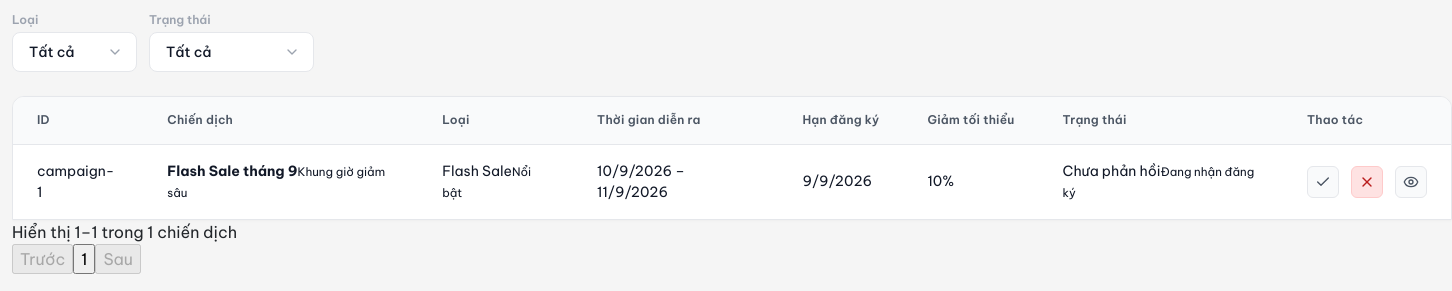
Test: SellerCampaignsPage Flash Sale participation flow › declines from the campaign row with the latest participation version
Click the button named "Từ chối chiến dịch Flash Sale tháng 9" at (1367, 182), box [1351,166,1383,198]
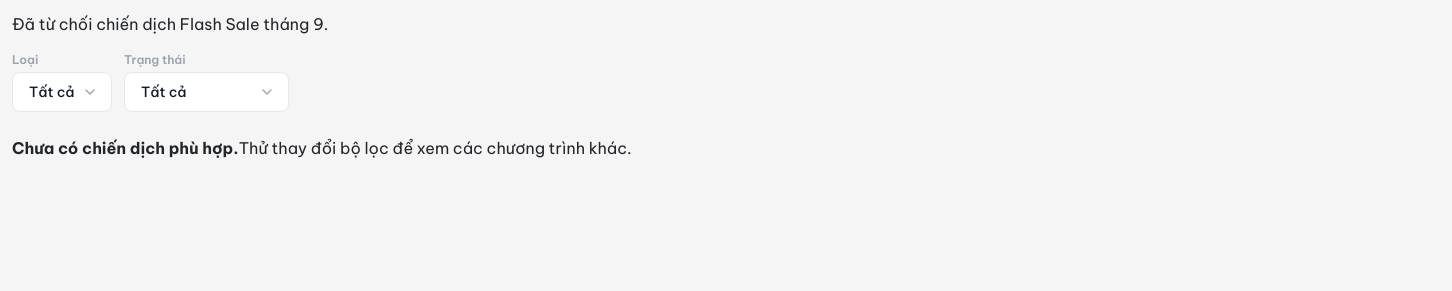
expect the text "Đã từ chối chiến dịch Flash Sale tháng 9." is shown: met, box [12,14,328,34]
